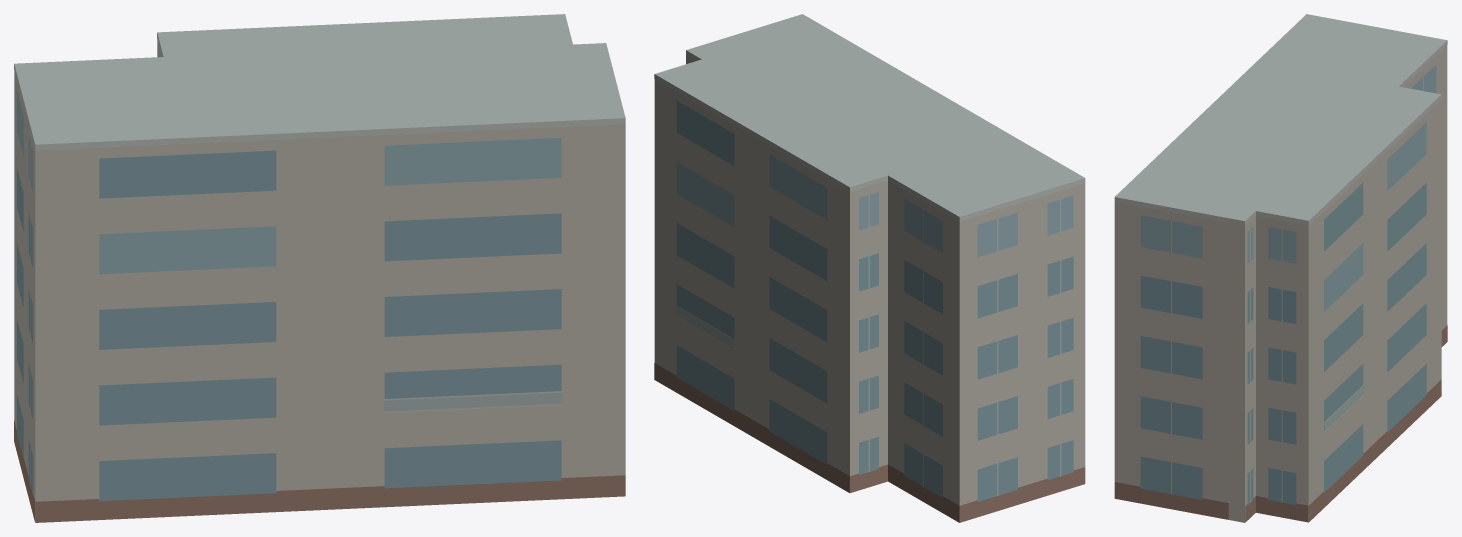
The model's file is survey-upis-32674462.glb.
3 views of the same model, side by side, from view 1: azimuth 30°, elevation 25°; view 2: azimuth 150°, elevation 25°; view 3: azimuth 270°, elevation 25° (orthographic). The views are drawn at different scales.
Parts seen in each view (by area): view 1: survey-upis-32674462.tmp; view 2: survey-upis-32674462.tmp; view 3: survey-upis-32674462.tmp.
Boxes of the visible parts, box(x1,y1,x2,y2) form: survey-upis-32674462.tmp: box(14, 14, 625, 522); survey-upis-32674462.tmp: box(654, 14, 1085, 522); survey-upis-32674462.tmp: box(1114, 14, 1447, 522).
Size of the model in its own units: 22.25 by 15.1 by 15.11.
